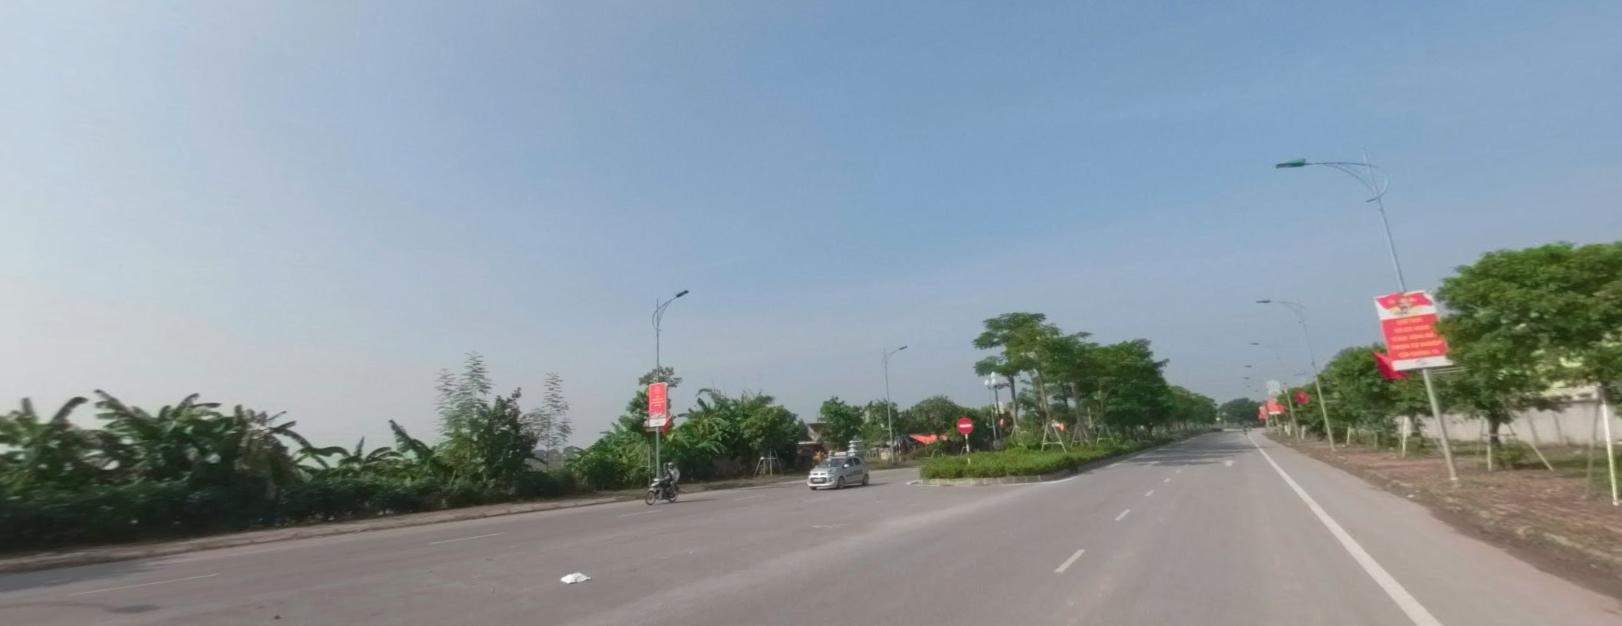Cam nguoc chieu: (956, 416, 973, 433)
